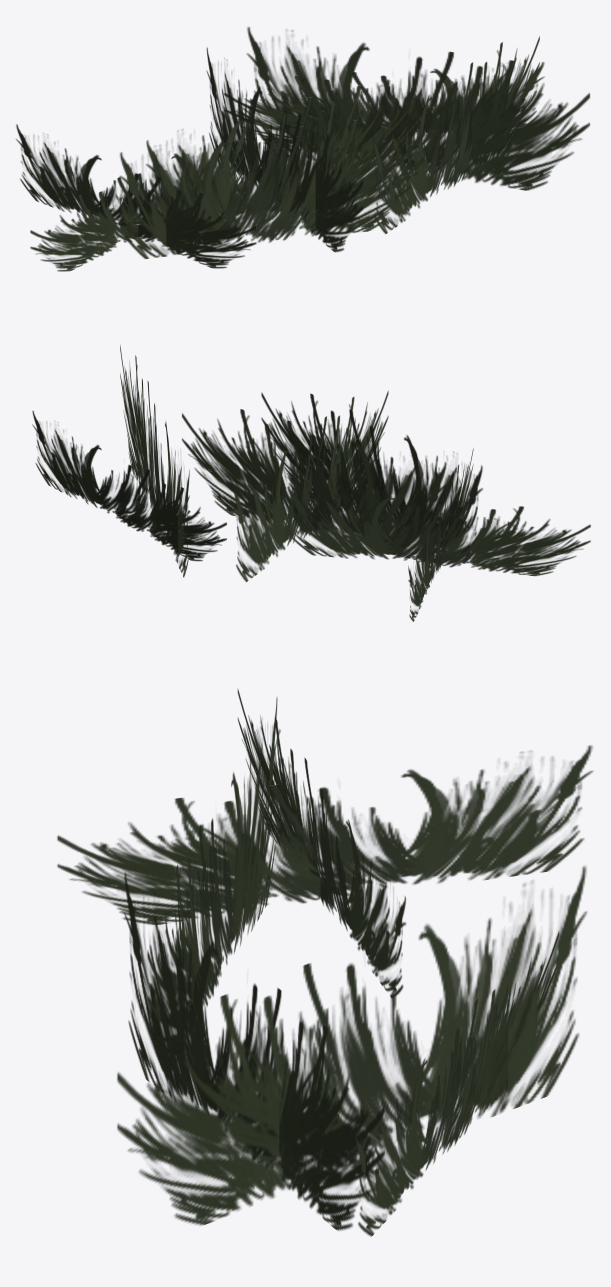
The model's file is grass01_02.glb.
3 views of the same model, one above another, from view 1: azimuth 30°, elevation 25°; view 2: azimuth 150°, elevation 25°; view 3: azimuth 270°, elevation 25° (orthographic). The views are drawn at different scales.
Visible parts, largest first — view 1: grass01_cluster02; view 2: grass01_cluster02; view 3: grass01_cluster02.
Part boxes in pixels (<box>): grass01_cluster02: <box>16,27,590,271</box>; grass01_cluster02: <box>32,345,590,621</box>; grass01_cluster02: <box>56,689,592,1236</box>.
Bounding box in the file's own units: 3.96 × 0.8653 × 2.05.
1 material, 1 textured.
